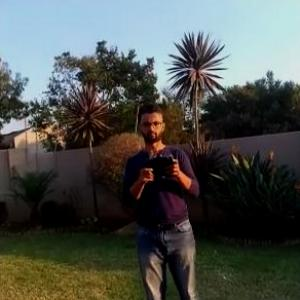follow: (116, 92, 208, 299)
